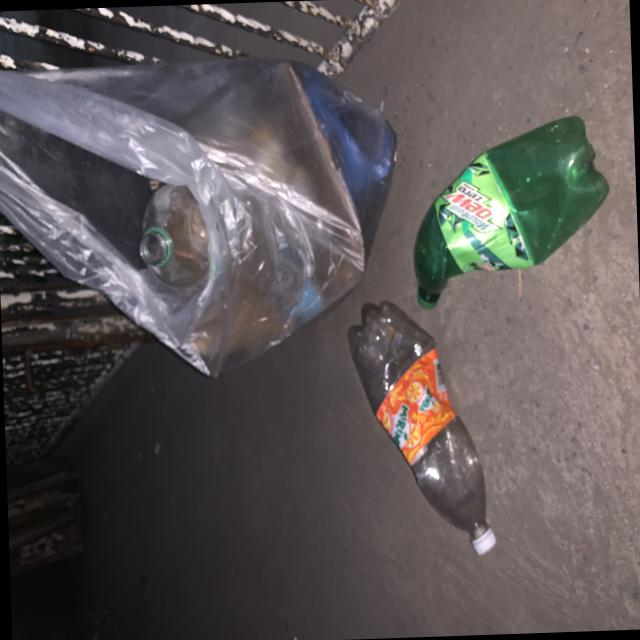Bottle: (346, 301, 495, 554), (413, 116, 608, 308)
